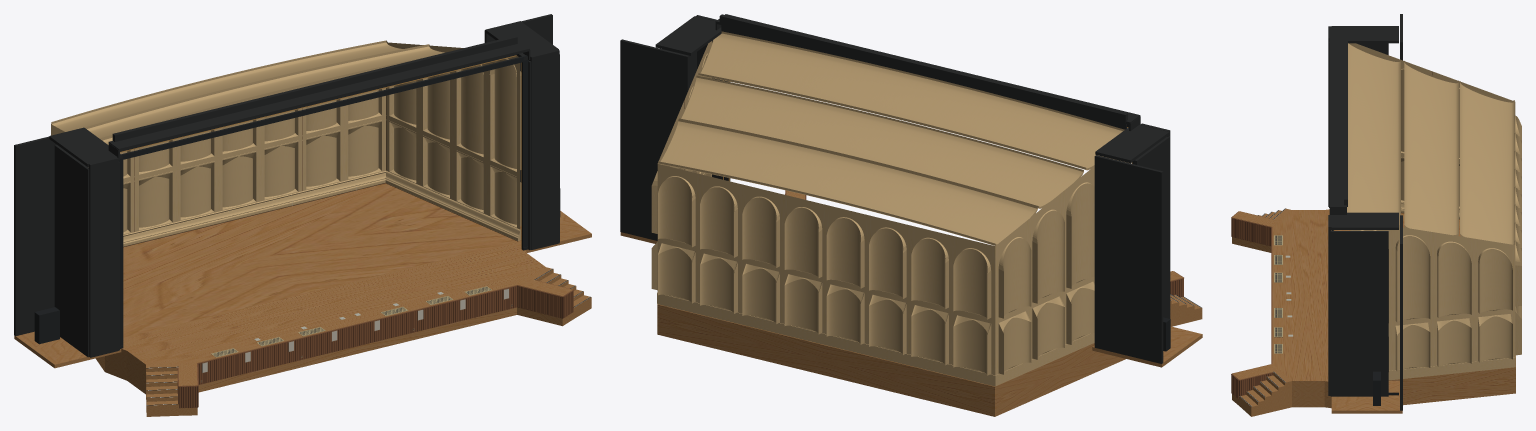
The model's file is stage.glb.
3 views of the same model, side by side, from view 1: azimuth 30°, elevation 25°; view 2: azimuth 150°, elevation 25°; view 3: azimuth 270°, elevation 25° (orthographic). The views are drawn at different scales.
Parts seen in each view (by area): view 1: bake_stage, bake_stage_detail; view 2: bake_stage; view 3: bake_stage, bake_stage_detail.
Part boxes in pixels (bbox=[...]): bake_stage: bbox=[14, 14, 591, 416]; bake_stage_detail: bbox=[146, 268, 590, 405]; bake_stage: bbox=[620, 14, 1202, 416]; bake_stage: bbox=[1231, 14, 1521, 416]; bake_stage_detail: bbox=[1239, 208, 1293, 406].
Size of the model in its own units: 23.4 by 9.9 by 12.51.
19 materials, 2 textured.
